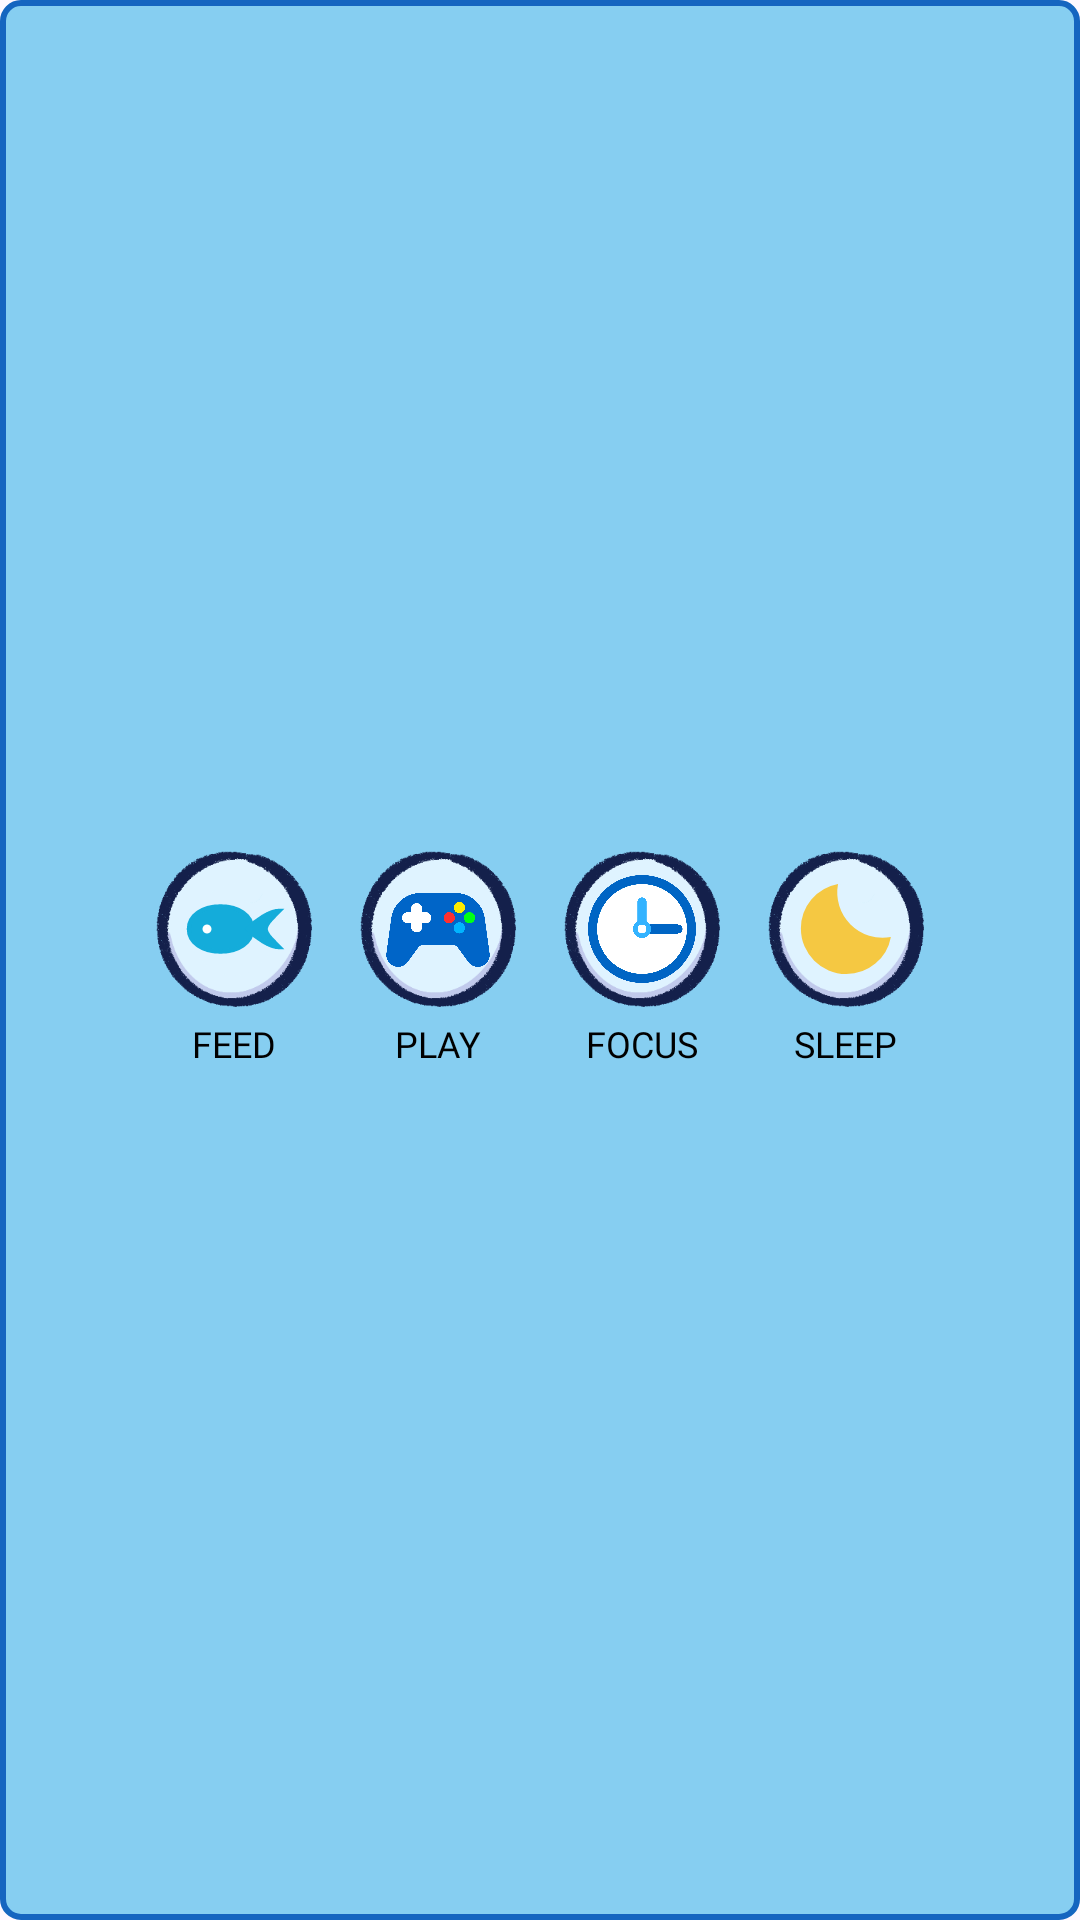

Where to tap for icons on this 1080 × 1920 app screen, as (x=x, y=y):
Pomodoro: (x=642, y=929)
